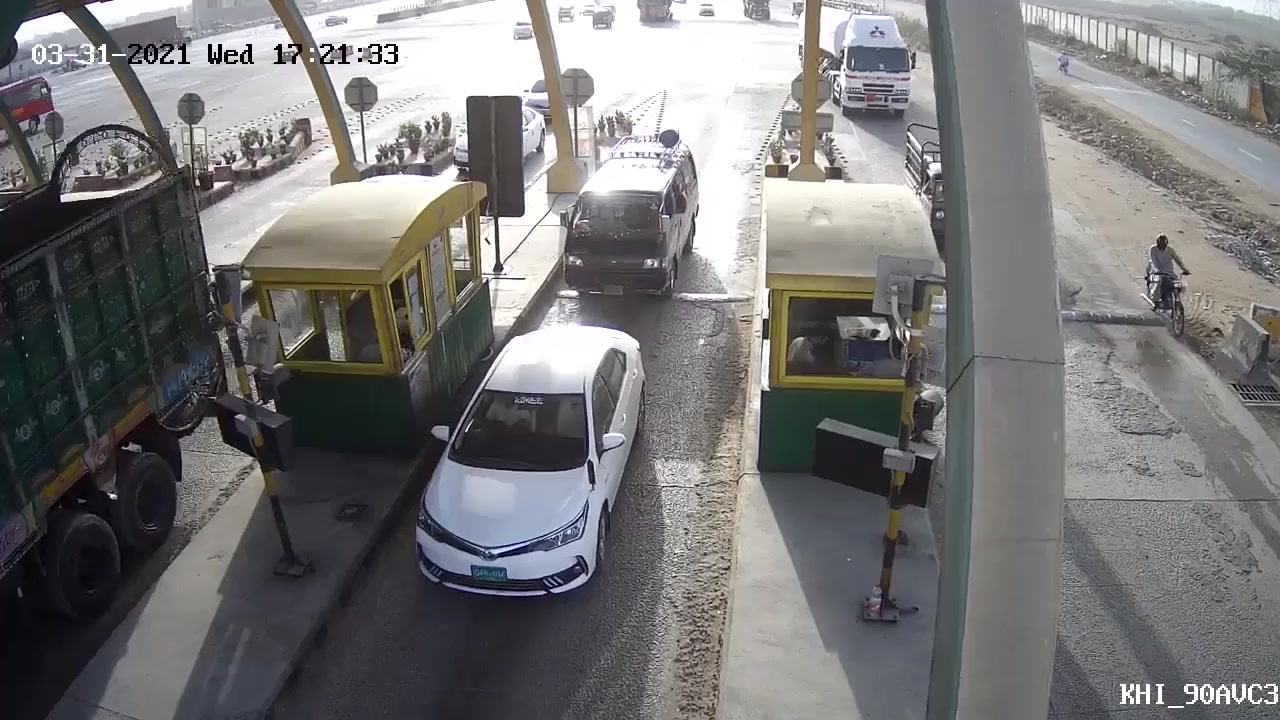F1: (399, 320, 651, 601)
F2: (553, 129, 703, 306)
